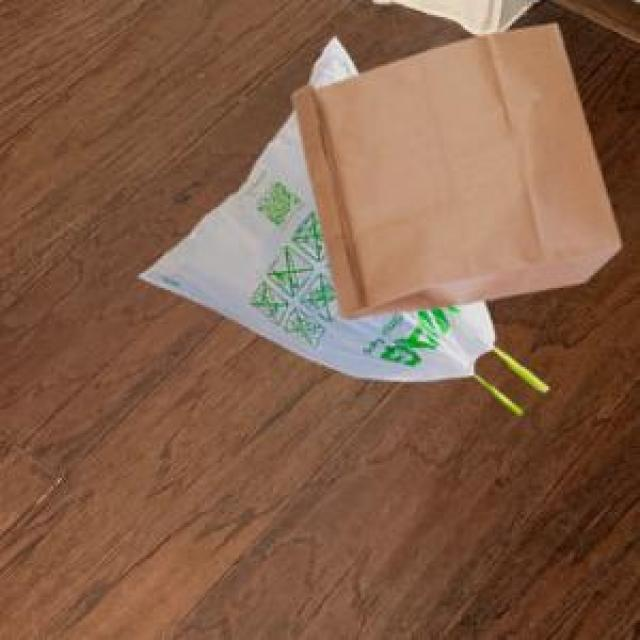paper: (288, 19, 617, 316)
